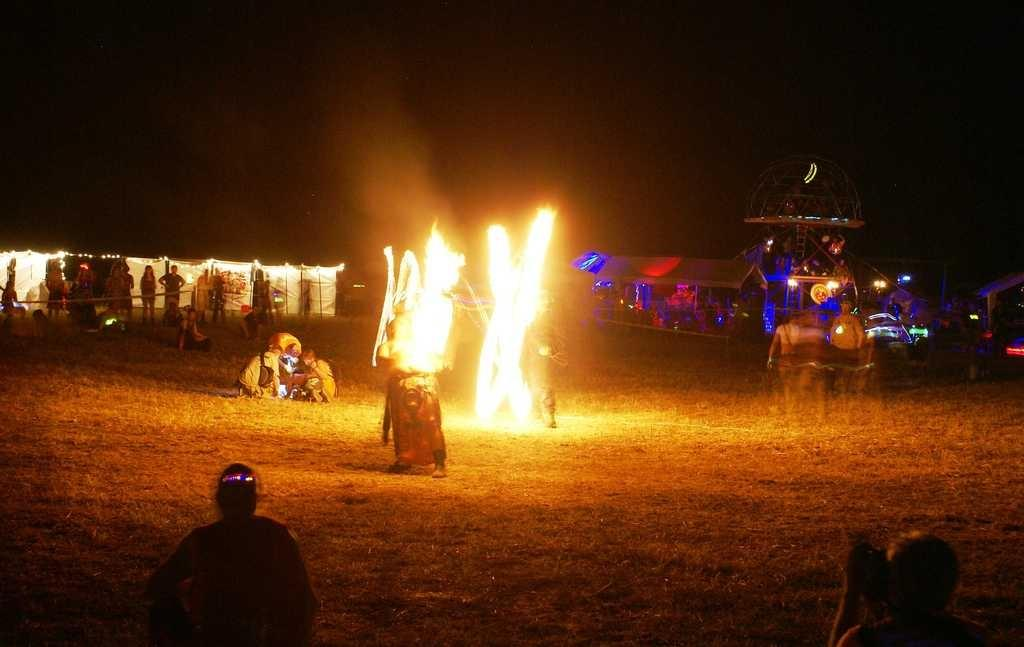fire: (397, 260, 460, 370), (483, 250, 522, 410)
